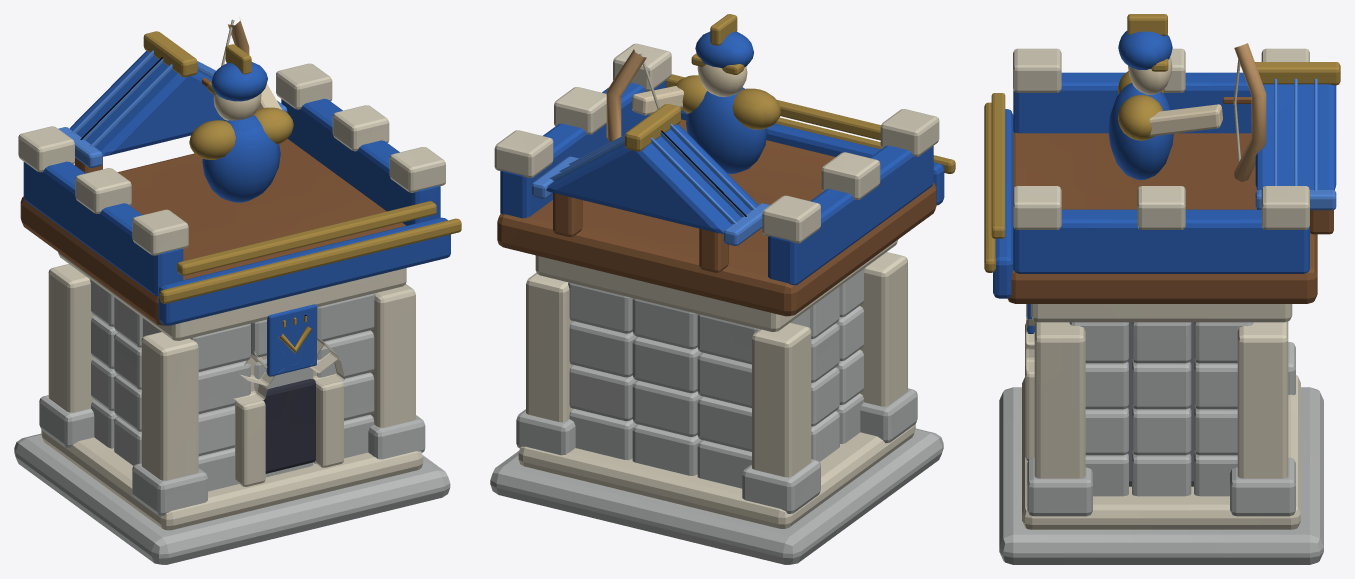
Rendered from arrow_tower_low.glb.
3 views of the same model, side by side, from view 1: azimuth 30°, elevation 25°; view 2: azimuth 150°, elevation 25°; view 3: azimuth 270°, elevation 25° (orthographic). The views are drawn at different scales.
Parts seen in each view (by area): view 1: arrow_tower_low_surface; view 2: arrow_tower_low_surface; view 3: arrow_tower_low_surface.
Boxes of the visible parts, x1,y1,x2,y2 form: arrow_tower_low_surface: [14, 19, 461, 564]; arrow_tower_low_surface: [490, 14, 955, 564]; arrow_tower_low_surface: [984, 14, 1340, 564].
Bounding box in the file's own units: 1.49 × 2.07 × 1.4.
Materials: 1 (1 with a texture image).
